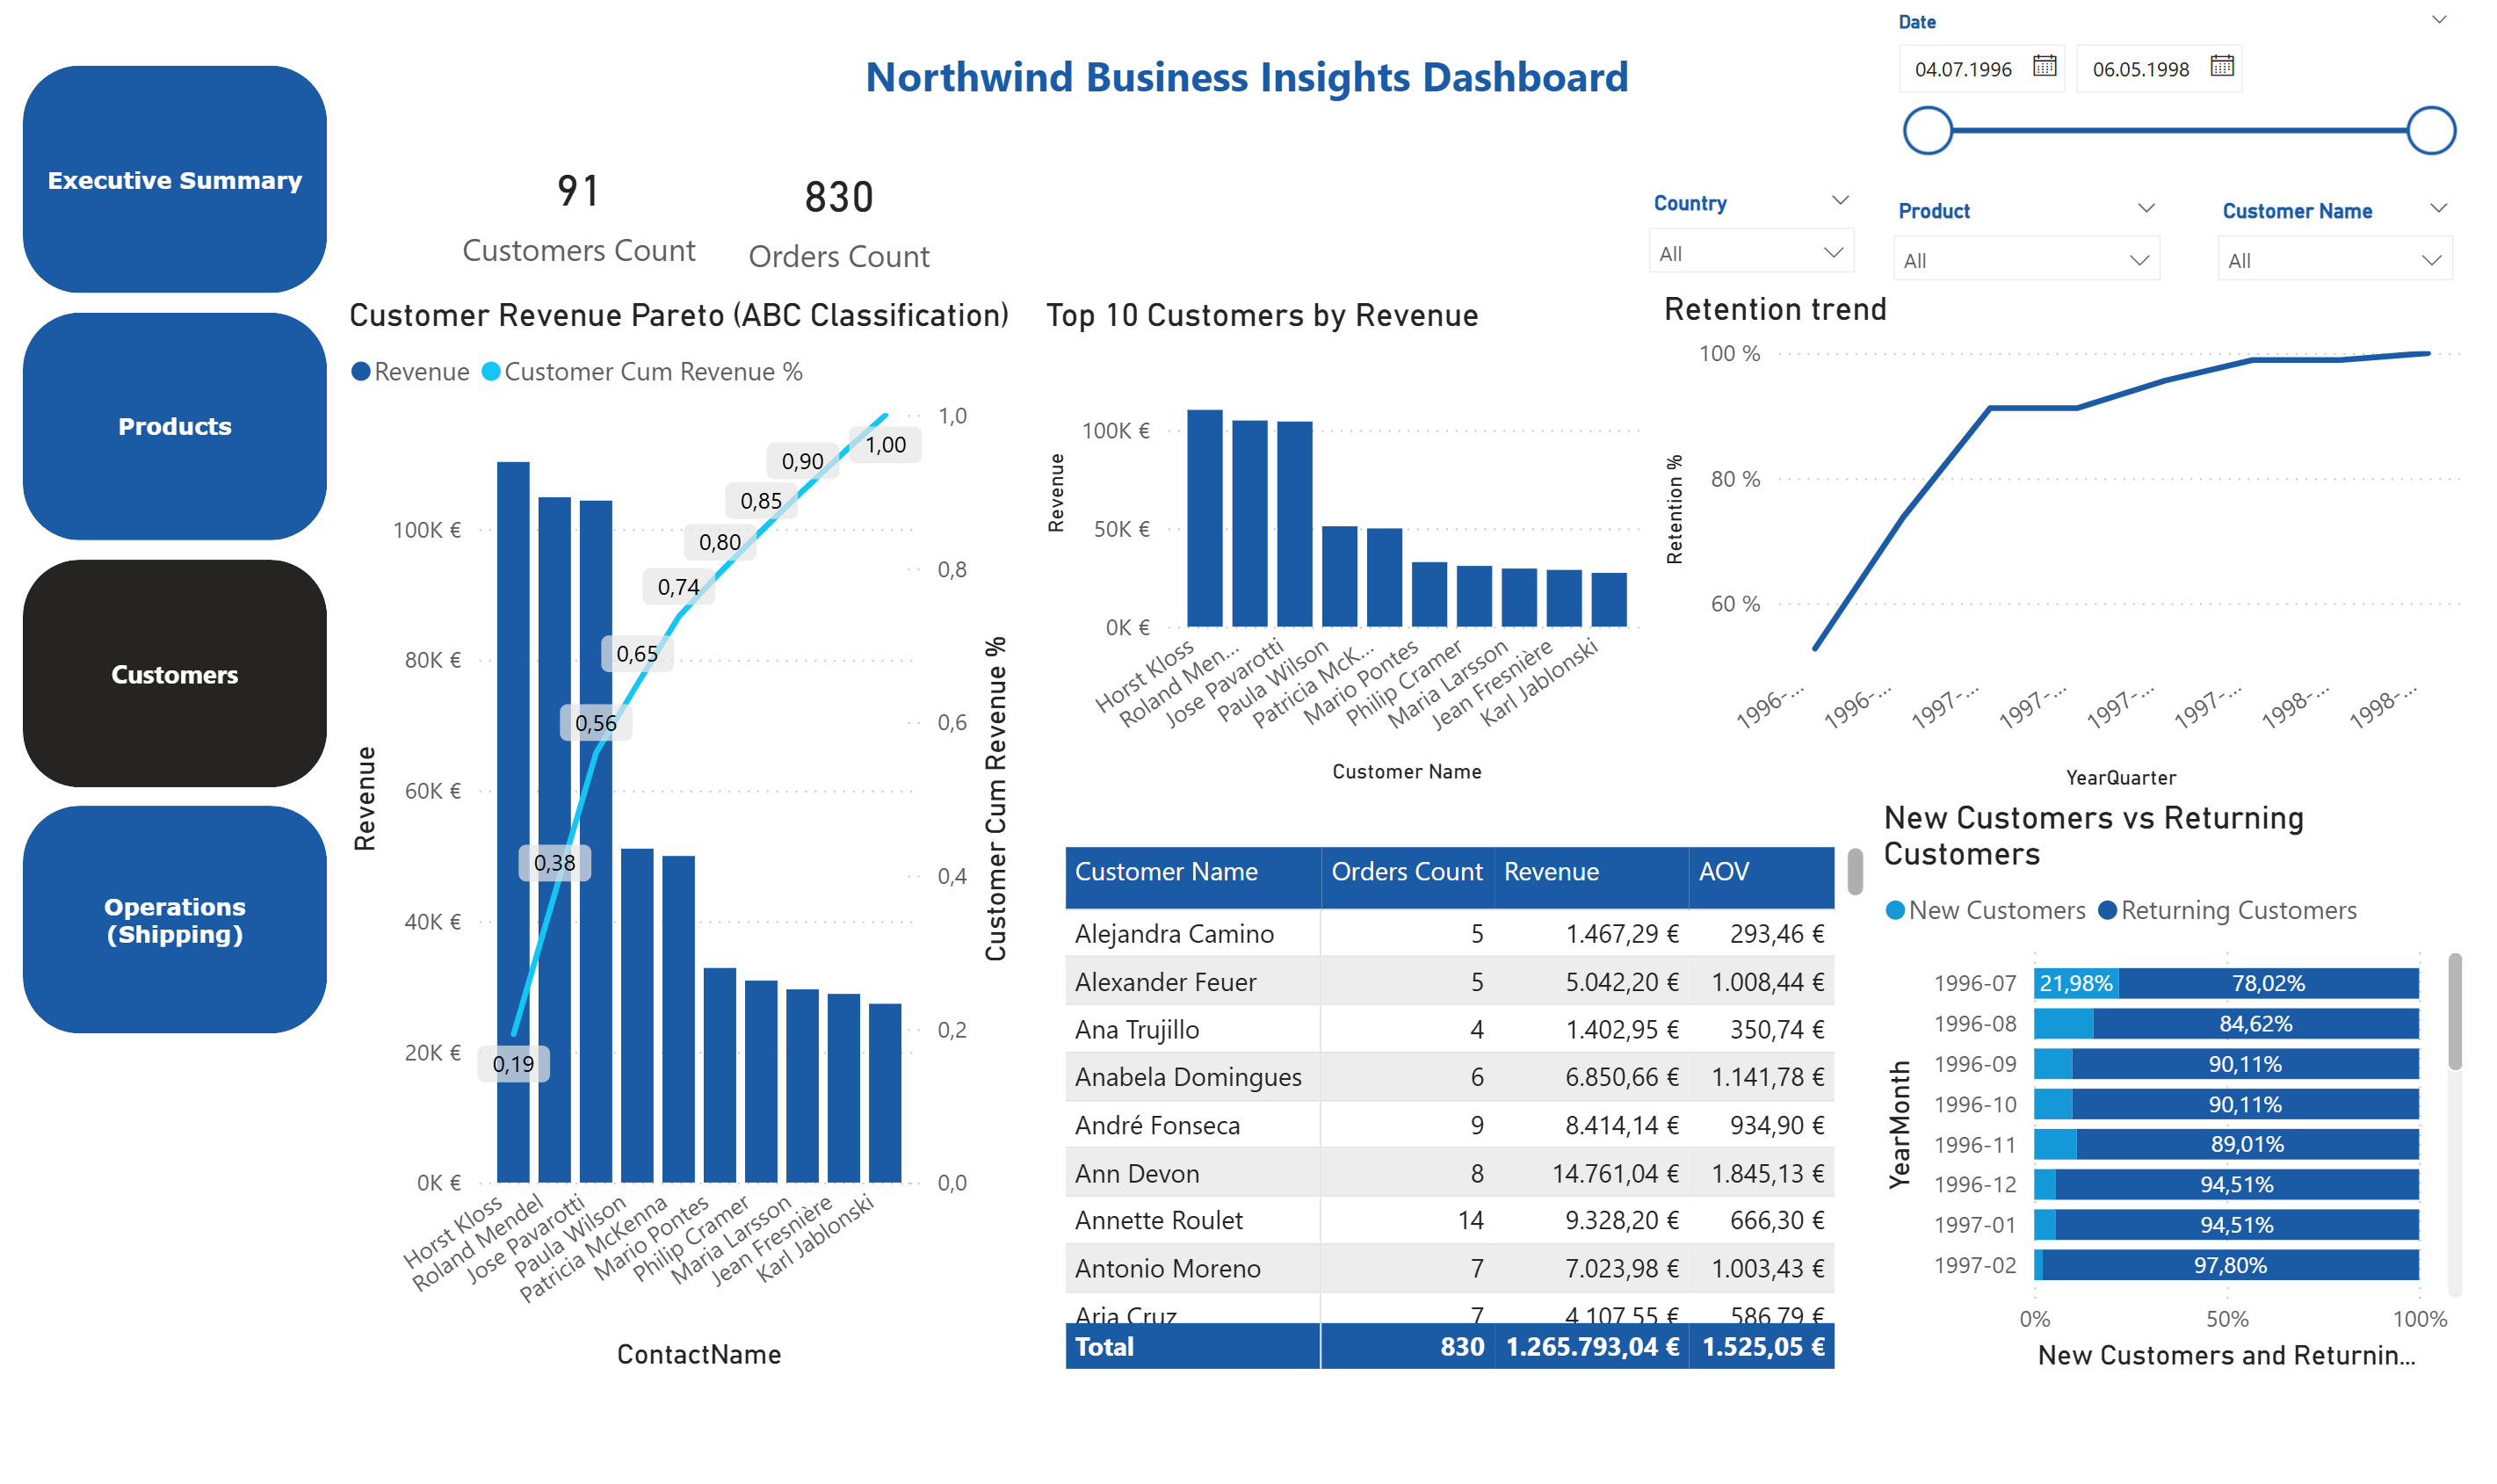

Layout of this report page (visuals, bound fields, positions):
{"tool":"powerbi","page":{"name":"Customers","canvas":[1280,720],"ordinal":2},"visuals":[{"type":"pageNavigator","box":[0,33.7,159.9,506.2],"z":0},{"type":"textbox","box":[405,19.5,470,47.4],"z":1000},{"type":"slicer","fields":{"Values":["Date.Date"]},"box":[967.3,0,312.5,88.4],"z":2000},{"type":"slicer","fields":{"Values":["Customers.Country"]},"box":[839.6,94,127.7,56.2],"z":3000},{"type":"slicer","fields":{"Values":["Customers.ContactName"]},"box":[1136.9,98,143,56.2],"z":4000},{"type":"hundredPercentStackedBarChart","title":"New Customers vs Returning Customers","fields":{"Y":["Products.New Customers","Products.Returning Customers"],"Category":["Date.YearMonth"]},"box":[967.2,416.9,312.7,303.3],"z":5000},{"type":"columnChart","title":"Top 10 Customers by Revenue","fields":{"Category":["Customers.ContactName"],"Y":["Order Details.Revenue"]},"box":[529.2,154.2,323.3,259.2],"z":6000},{"type":"card","fields":{"Values":["Customers.Customers Count"]},"box":[221.3,66.6,139.3,83.7],"z":7000},{"type":"card","fields":{"Values":["Orders.Orders Count"]},"box":[360.6,70.1,131.6,83.7],"z":8000},{"type":"lineChart","title":"Retention trend","fields":{"Y":["Products.Retention %"],"Category":["Date.YearQuarter"]},"box":[852.5,150.8,427.5,265.8],"z":9000},{"type":"lineStackedColumnComboChart","title":"Customer Revenue Pareto (ABC Classification)","fields":{"Y":["Order Details.Revenue"],"Category":["Customers.ContactName"],"Y2":["Customers.Customer Cum Revenue %"]},"box":[165.8,154.2,355,565.8],"z":10000},{"type":"pivotTable","fields":{"Rows":["Customers.ContactName"],"Values":["Orders.Orders Count","Order Details.Revenue","Order Details.AOV"]},"box":[540,437.4,427.2,282.8],"z":11000},{"type":"slicer","fields":{"Values":["Products.ProductName"]},"box":[967.3,98,159.9,56.2],"z":12000}]}

Visuals, with their boxes on the page's 1280x720 design canvas (x1, y1, x2, y2). These are canvas units, not pixel positions in the 2497x1484 screenshot, which may show the page scaled, cropped or inside an application window:
pageNavigator: locate(0, 34, 160, 540)
textbox: locate(405, 20, 875, 67)
slicer - Date.Date: locate(967, 0, 1280, 88)
slicer - Customers.Country: locate(840, 94, 967, 150)
slicer - Customers.ContactName: locate(1137, 98, 1280, 154)
"New Customers vs Returning Customers" hundredPercentStackedBarChart: locate(967, 417, 1280, 720)
"Top 10 Customers by Revenue" columnChart: locate(529, 154, 852, 413)
card - Customers.Customers Count: locate(221, 67, 361, 150)
card - Orders.Orders Count: locate(361, 70, 492, 154)
"Retention trend" lineChart: locate(852, 151, 1280, 417)
"Customer Revenue Pareto (ABC Classification)" lineStackedColumnComboChart: locate(166, 154, 521, 720)
pivotTable - Customers.ContactName x Orders.Orders Count: locate(540, 437, 967, 720)
slicer - Products.ProductName: locate(967, 98, 1127, 154)
